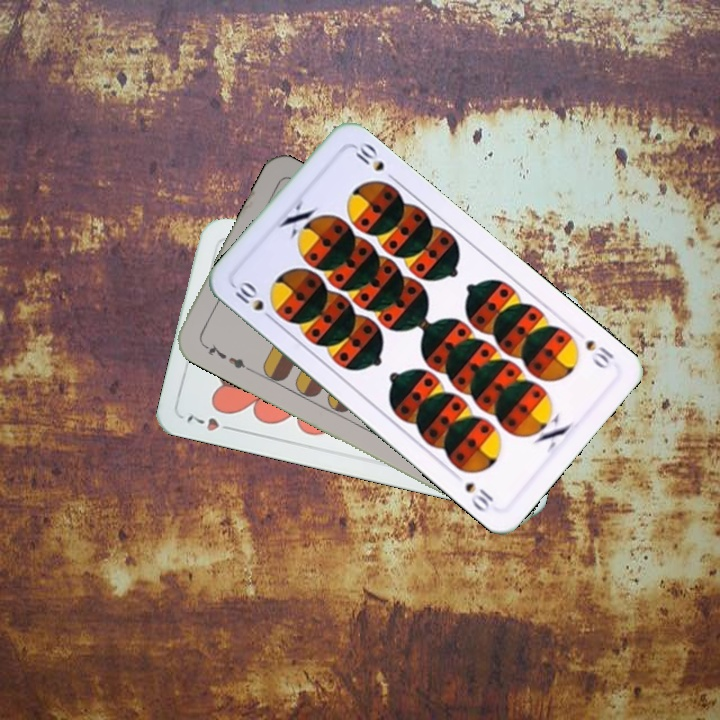E7: (197, 338, 252, 373)
H7: (183, 408, 239, 434)
S10: (231, 277, 278, 325), (581, 336, 617, 372)
